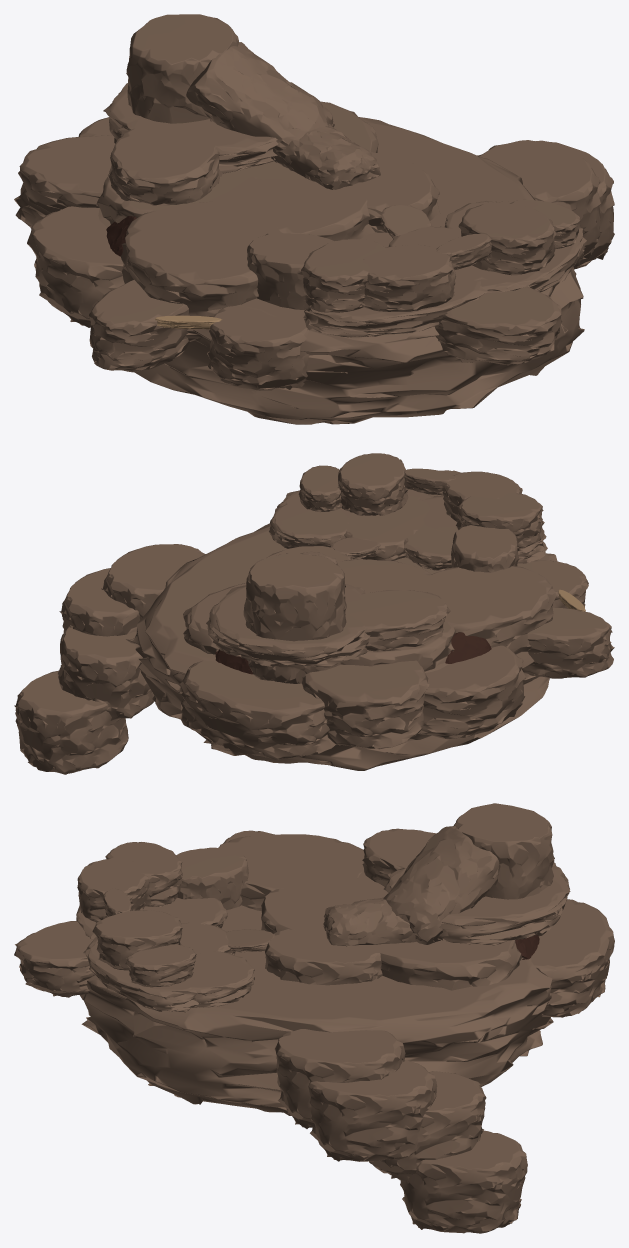
Rendered from Delia-rocks.fbx.
3 views of the same model, one above another, from view 1: azimuth 30°, elevation 25°; view 2: azimuth 150°, elevation 25°; view 3: azimuth 270°, elevation 25° (orthographic). The views are drawn at different scales.
Parts seen in each view (by area): view 1: comic_rock_zylinder, comic_rock_zylinder__6_, comic_rock_zylinder__30_, comic_rock_zylinder__18_, comic_rock_zylinder__28_, comic_rock_zylinder__22_, comic_rock_zylinder__17_, comic_rock_zylinder__8_, comic_rock_zylinder__5_, comic_rock_zylinder__34_, comic_rock_zylinder__20_, comic_rock_zylinder__23_ (+18 smaller); view 2: comic_rock_zylinder, comic_rock_zylinder__27_, comic_rock_zylinder__18_, comic_rock_zylinder__20_, comic_rock_zylinder__6_, comic_rock_zylinder__26_, comic_rock_zylinder__28_, comic_rock_zylinder__16_, comic_rock_zylinder__25_, comic_rock_zylinder__34_, comic_rock_zylinder__17_, comic_rock_zylinder__23_ (+20 smaller); view 3: comic_rock_zylinder, comic_rock_zylinder__24_, comic_rock_zylinder__26_, comic_rock_zylinder__30_, comic_rock_zylinder__23_, comic_rock_zylinder__27_, comic_rock_zylinder__6_, comic_rock_zylinder__18_, comic_rock_zylinder__10_, comic_rock_zylinder__16_, comic_rock_zylinder__25_, comic_rock_zylinder__1_ (+15 smaller).
Part boxes in pixels (box(x1,y1,x2,y2)): comic_rock_zylinder: box(90, 117, 584, 424); comic_rock_zylinder__6_: box(120, 201, 281, 341); comic_rock_zylinder__30_: box(186, 42, 334, 162); comic_rock_zylinder__18_: box(126, 14, 238, 123); comic_rock_zylinder__28_: box(27, 206, 124, 327); comic_rock_zylinder__22_: box(435, 286, 562, 365); comic_rock_zylinder__17_: box(107, 126, 222, 205); comic_rock_zylinder__8_: box(207, 306, 309, 390); comic_rock_zylinder__5_: box(210, 177, 375, 240); comic_rock_zylinder__34_: box(88, 280, 189, 372); comic_rock_zylinder__20_: box(14, 135, 114, 226); comic_rock_zylinder__23_: box(478, 140, 600, 259); comic_rock_zylinder: box(126, 523, 557, 770); comic_rock_zylinder__27_: box(177, 660, 335, 759); comic_rock_zylinder__18_: box(243, 553, 346, 683); comic_rock_zylinder__20_: box(302, 660, 429, 749); comic_rock_zylinder__6_: box(419, 566, 557, 668); comic_rock_zylinder__26_: box(14, 670, 128, 774); comic_rock_zylinder__28_: box(418, 645, 525, 739); comic_rock_zylinder__16_: box(206, 584, 370, 667); comic_rock_zylinder__25_: box(58, 626, 154, 720); comic_rock_zylinder__34_: box(522, 607, 614, 678); comic_rock_zylinder__17_: box(348, 590, 450, 651); comic_rock_zylinder__23_: box(101, 544, 205, 619); comic_rock_zylinder: box(79, 905, 553, 1115); comic_rock_zylinder__24_: box(308, 1060, 437, 1161); comic_rock_zylinder__26_: box(400, 1130, 527, 1233); comic_rock_zylinder__30_: box(383, 826, 499, 944); comic_rock_zylinder__23_: box(274, 1029, 405, 1128); comic_rock_zylinder__27_: box(531, 899, 614, 1017); comic_rock_zylinder__6_: box(218, 834, 364, 910); comic_rock_zylinder__18_: box(453, 803, 554, 936); comic_rock_zylinder__10_: box(374, 940, 525, 990); comic_rock_zylinder__16_: box(383, 866, 570, 945); comic_rock_zylinder__25_: box(369, 1071, 486, 1181); comic_rock_zylinder__1_: box(264, 926, 382, 985).
Bounding box in the file's own units: 25650 × 13405 × 26465.
